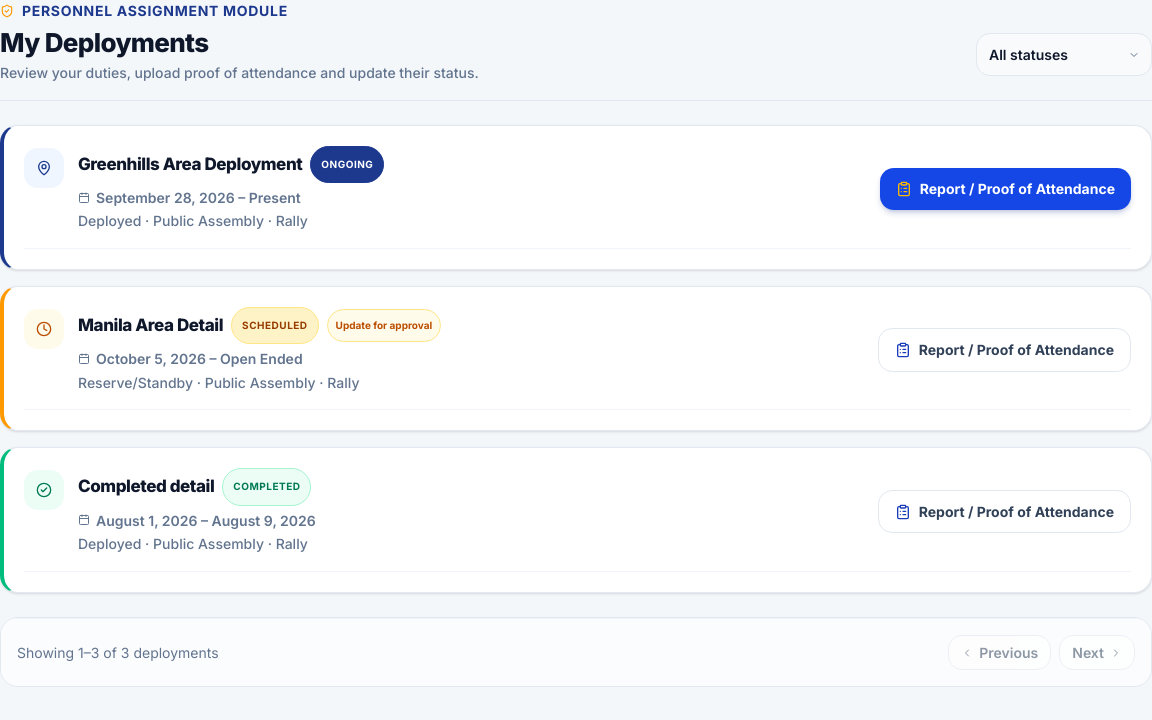
Test case: EmployeeDeploymentList › proposes Ongoing or Completed for HR approval; Completed needs proof first
Select "Ongoing" in the dropdown named "Filter Status" at (1064, 55), box [976,33,1151,76]
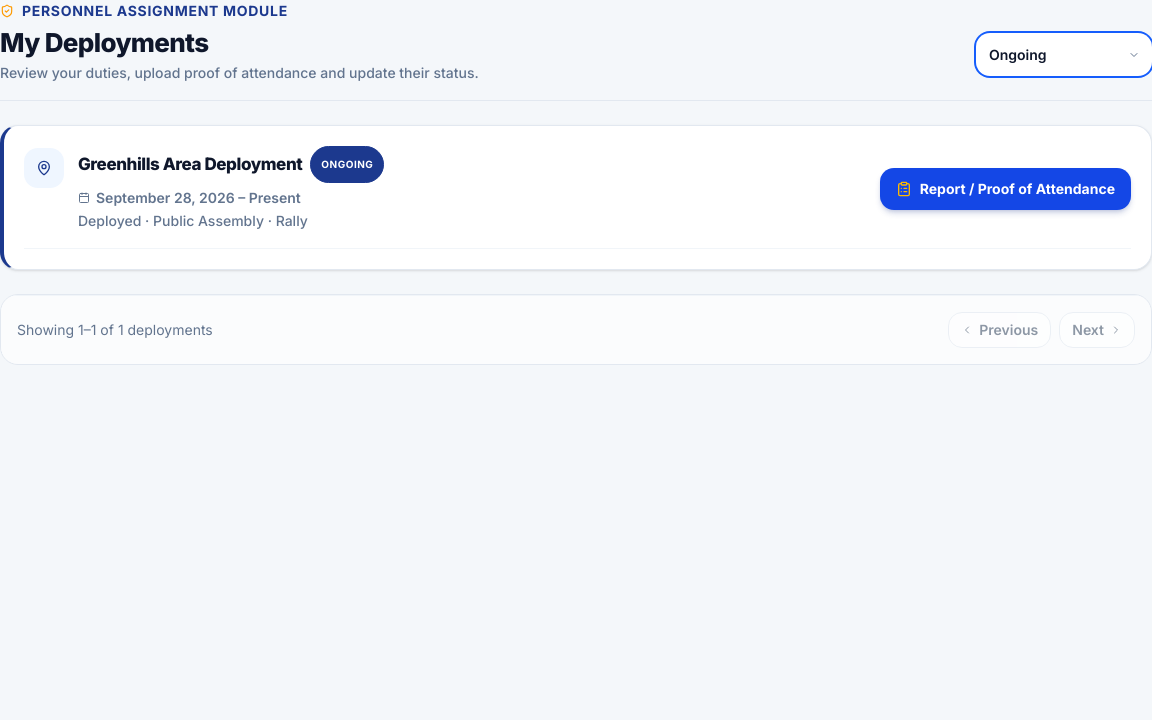
Click the button "Report / Proof of Attendance" at (1005, 189), box [880,168,1131,210]
(page scrolled)
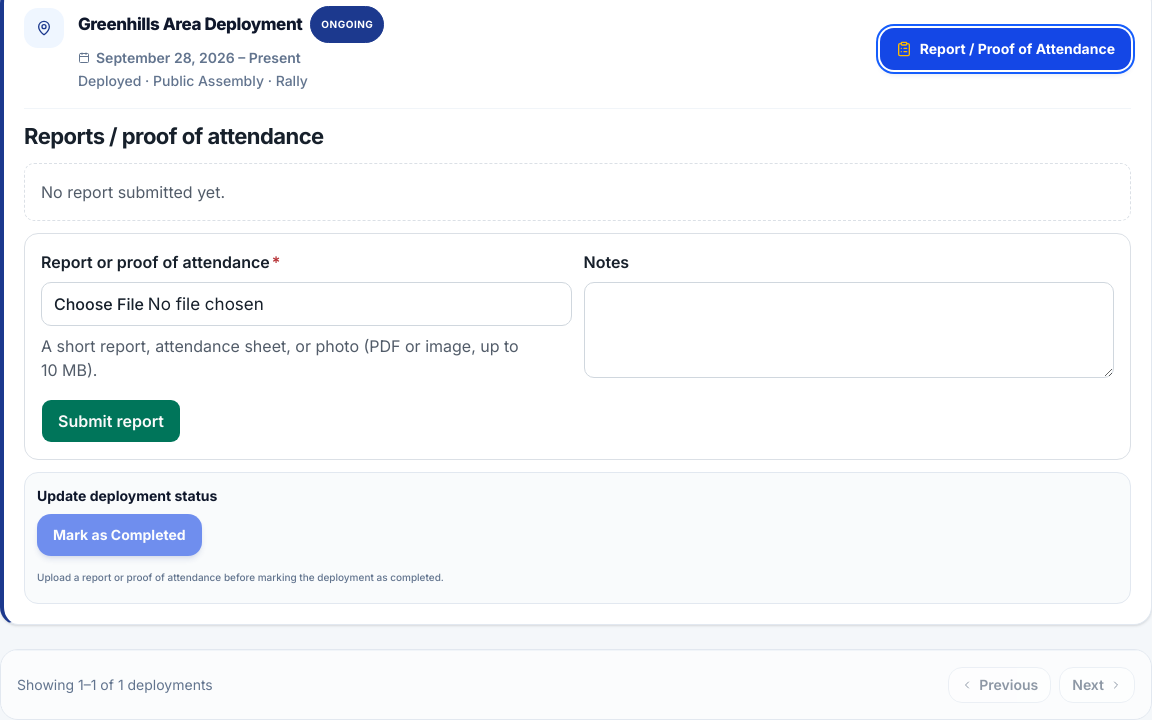
Result: the button "Mark as Completed" is disabled at [37,514,202,556]
Result: the text "Upload a report or proof of attendance before marking the deployment as completed." is shown at [37,571,444,583]
